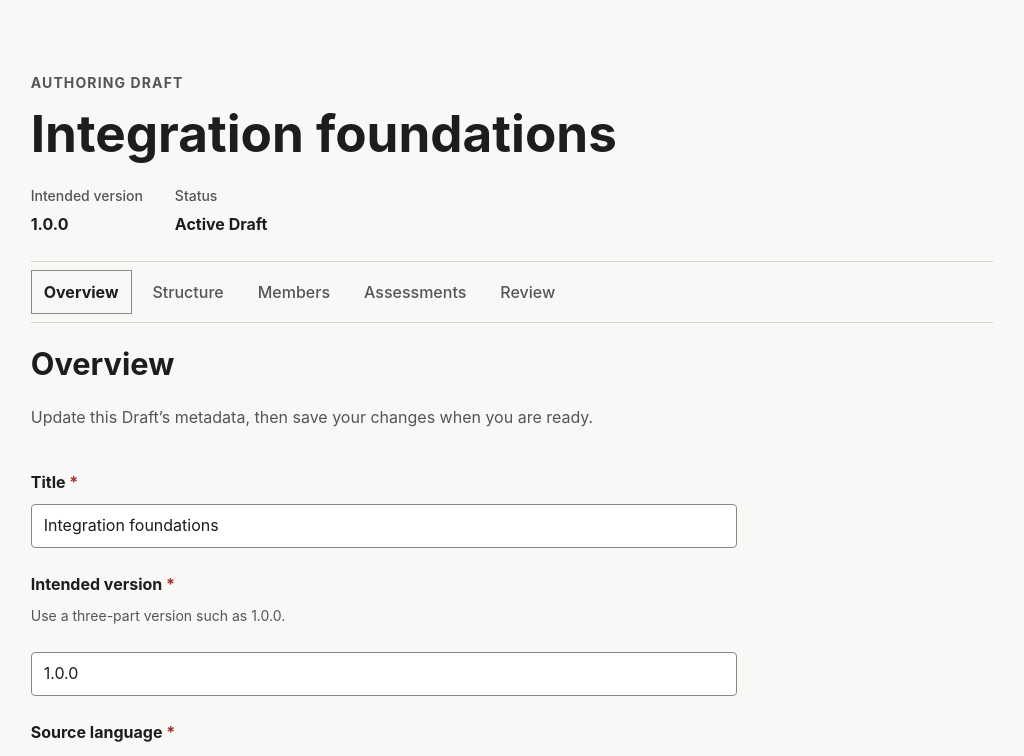
Test: AuthoringDraftShell › edits only changed metadata with the authoritative revision and updates the shell after save
Replace the text in the field labelled "Title *" with "Updated foundations" at (384, 526), box [31,504,737,548]
(page scrolled)
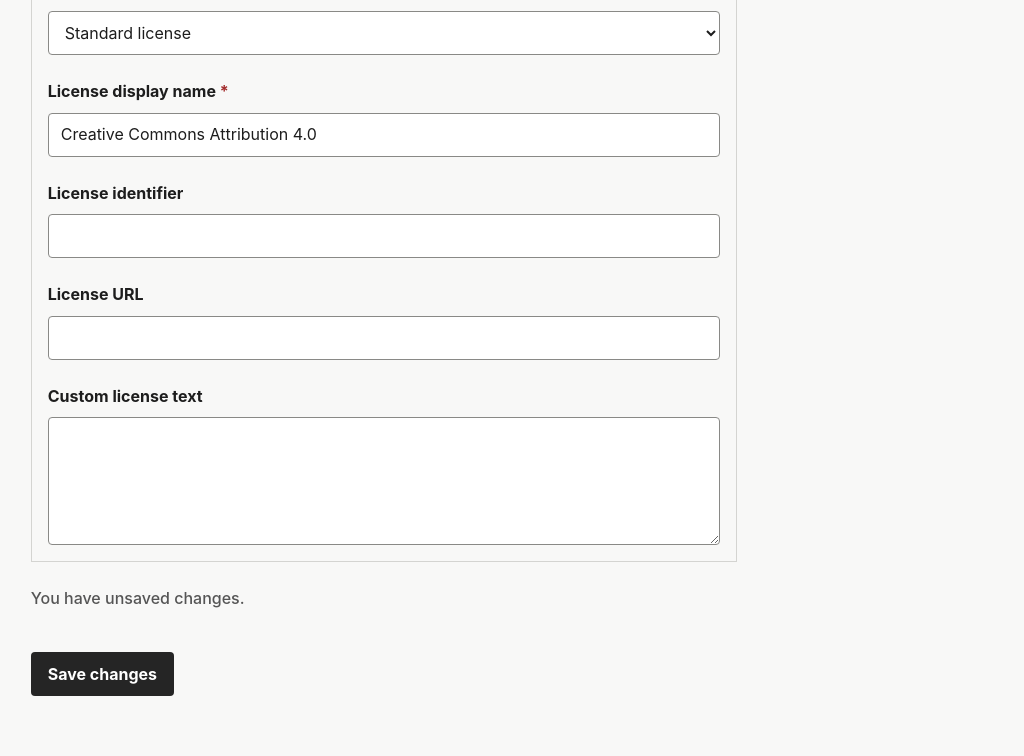
expect the button "Save changes" is enabled: met
Click the button "Save changes" at (102, 674), box [31,652,174,696]
(page scrolled)
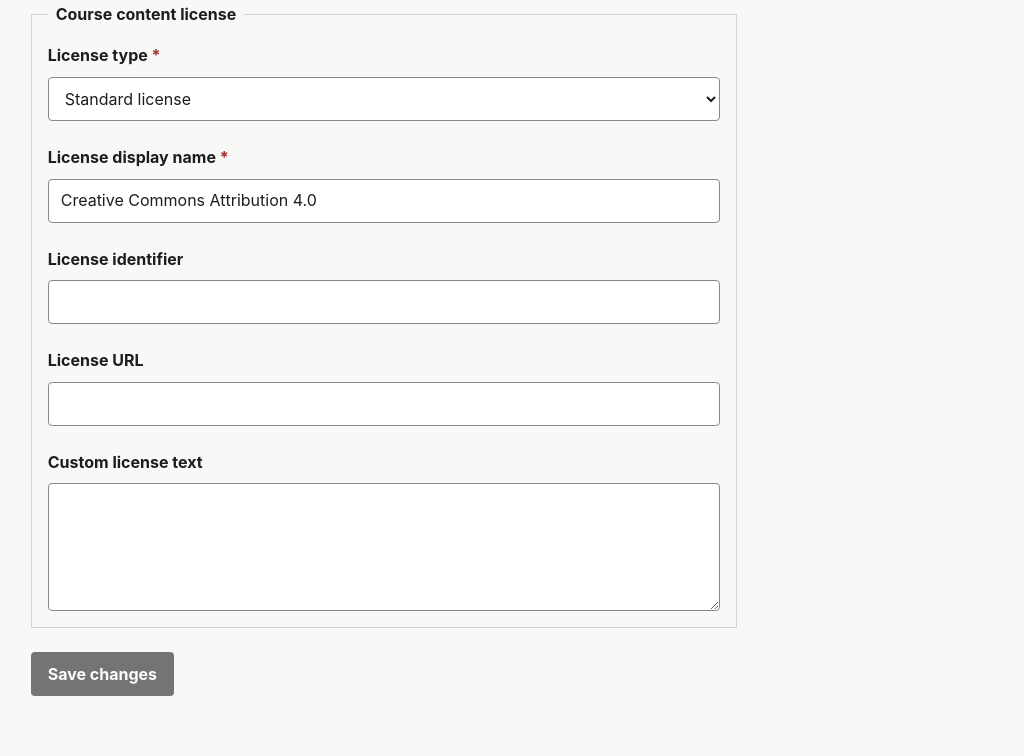
expect the button "Save changes" is disabled: met, box [31,652,174,696]
